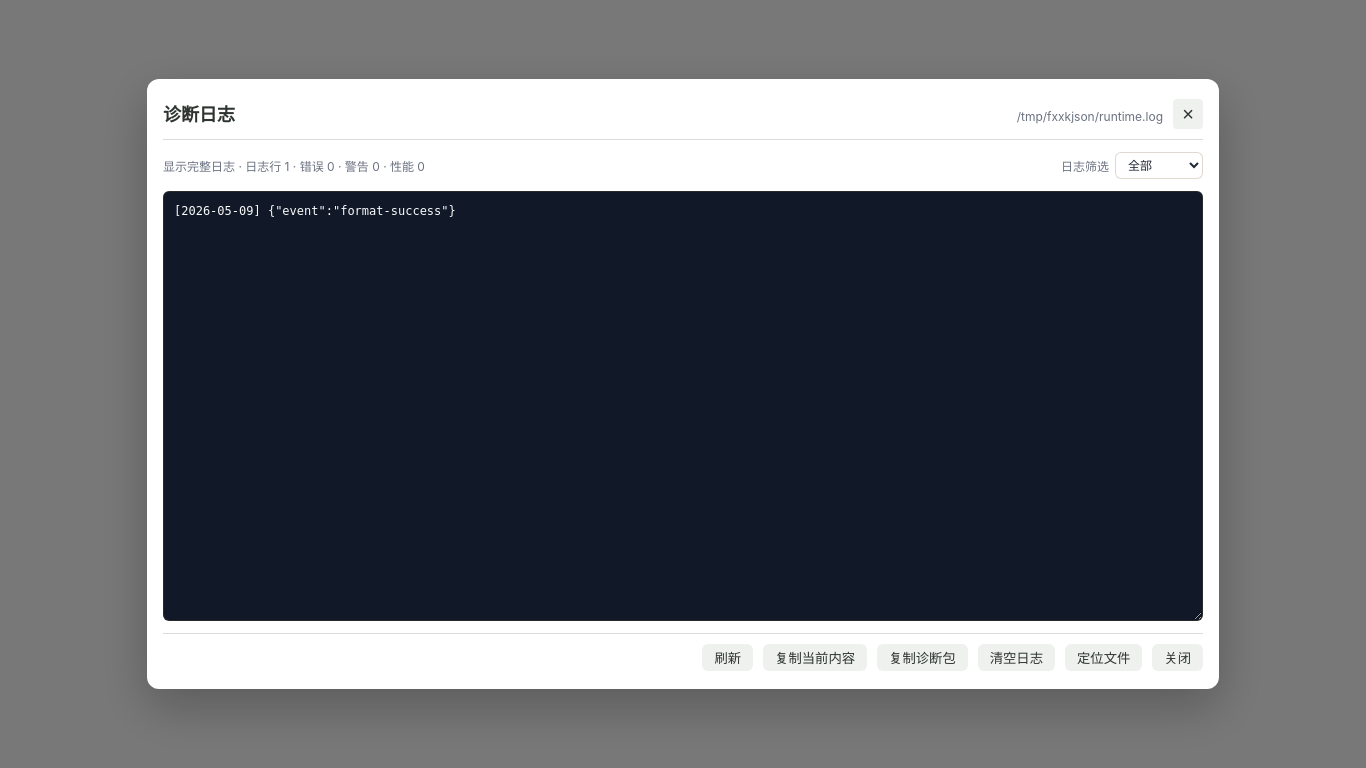
DiagnosticsLogPanel › clears the desktop runtime log
Check: the text box showing "format-success" is shown, box [163,191,1203,621]
Click the button "清空日志" at (1016, 658), box [978,644,1055,671]
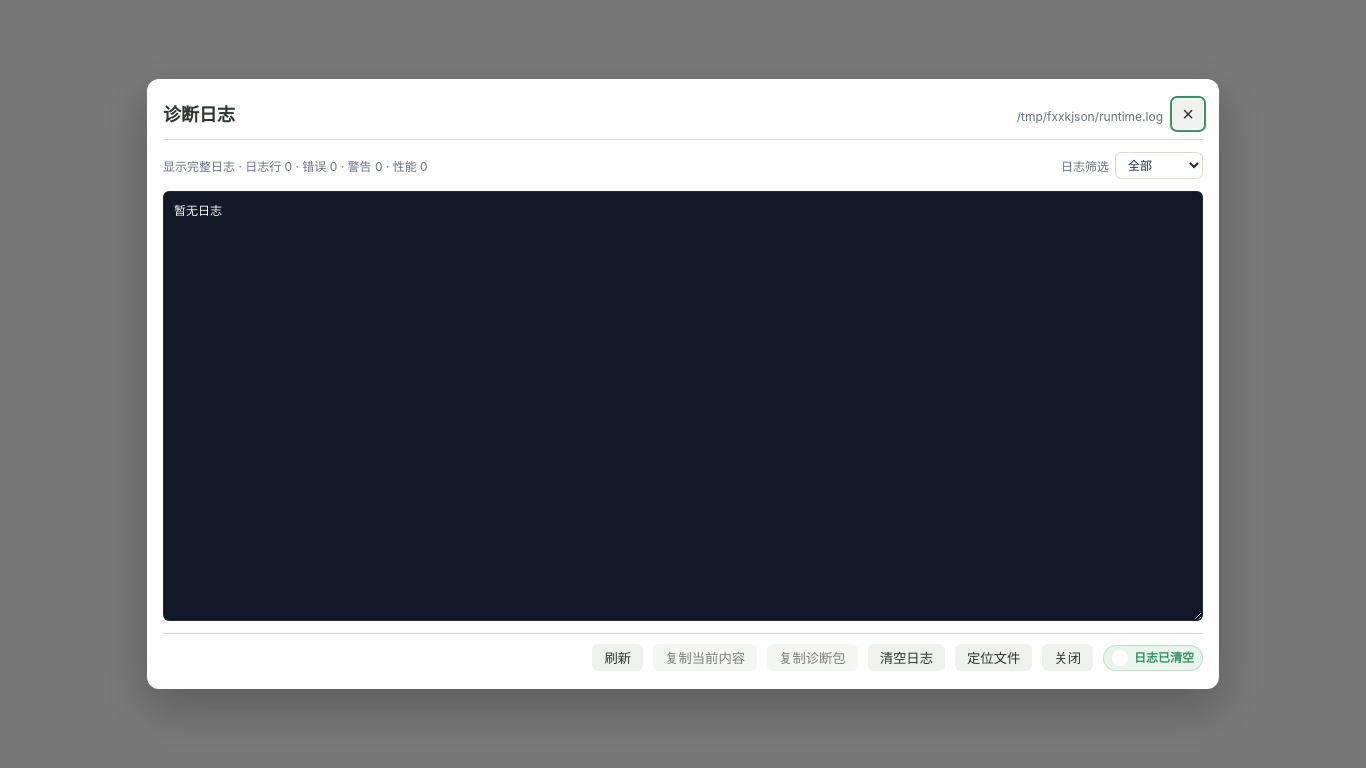
Check: the text box showing "暂无日志" is shown, box [163,191,1203,621]
